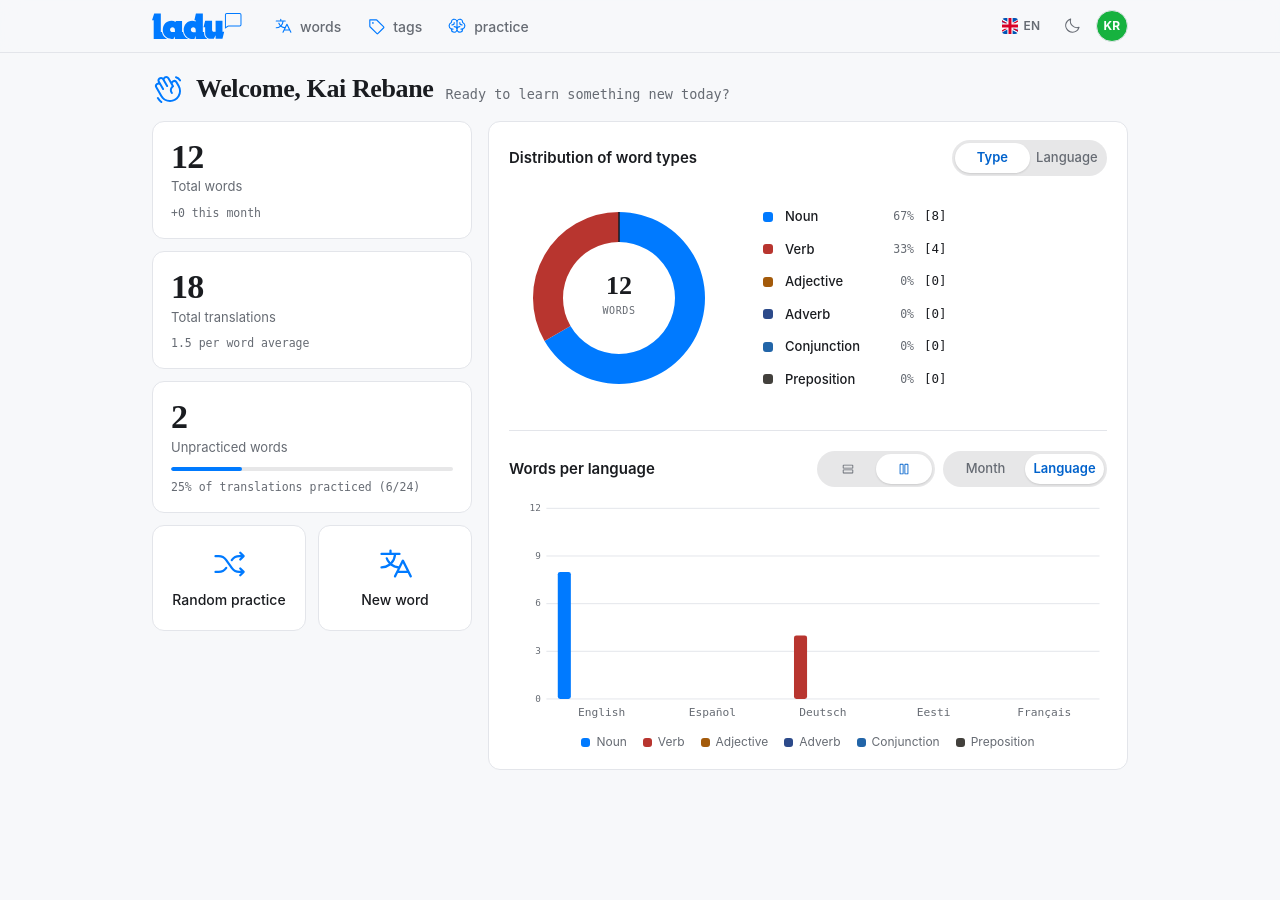
Test: DashboardPage — MetricsPanel › opens the bar chart on "By language" when only that view has data
Expected: the radio button labelled "Language" in the row of "Words per language" is checked, [1025, 454, 1104, 484]
Expected: the text "were added in this period" is not shown
Note: The user can still pick "By month" — which then explains why it is empty.
Click the radio button labelled "Month": (986, 469) [946, 454, 1025, 484]
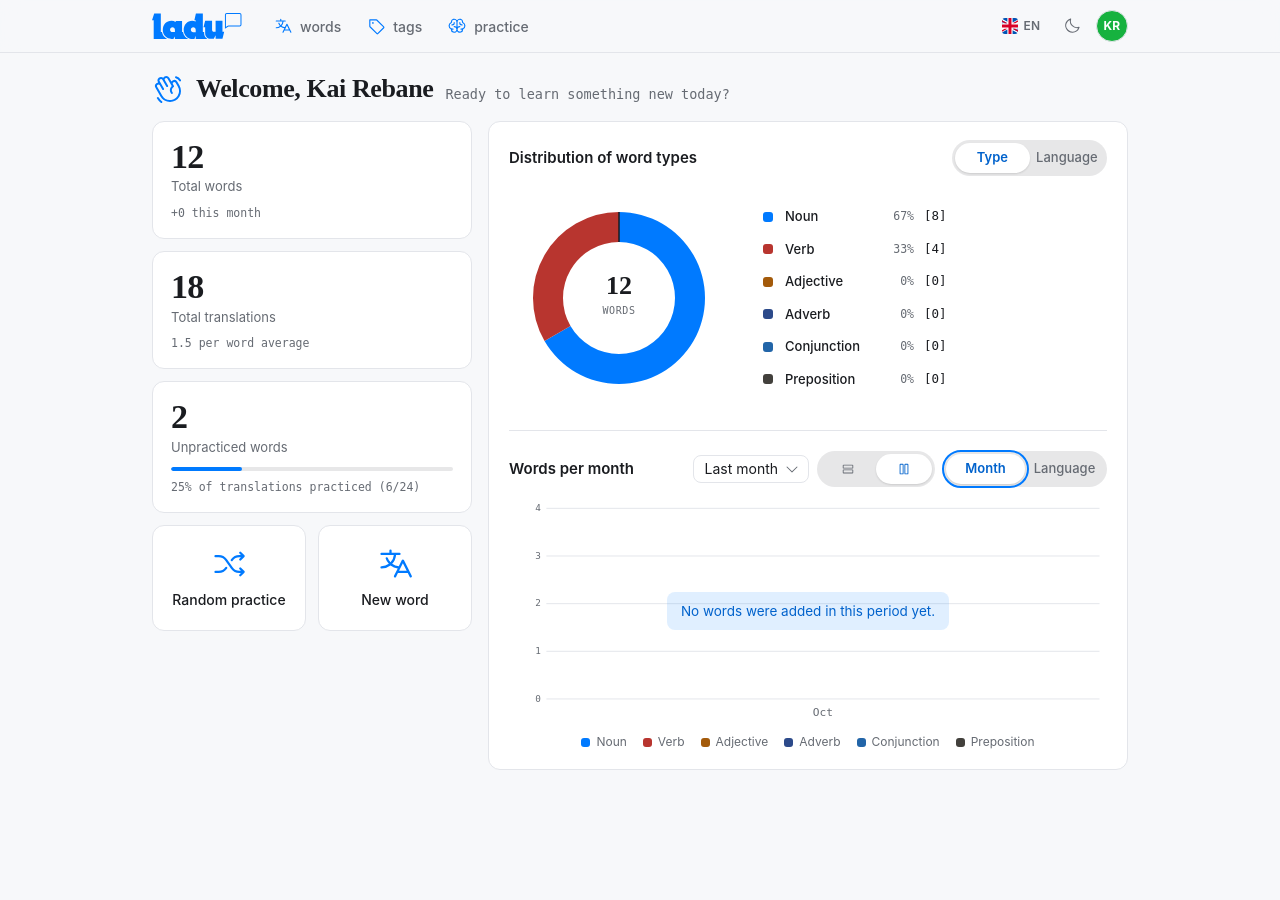
Now the text "No words were added in this period yet." is shown, box [667, 592, 949, 630]
